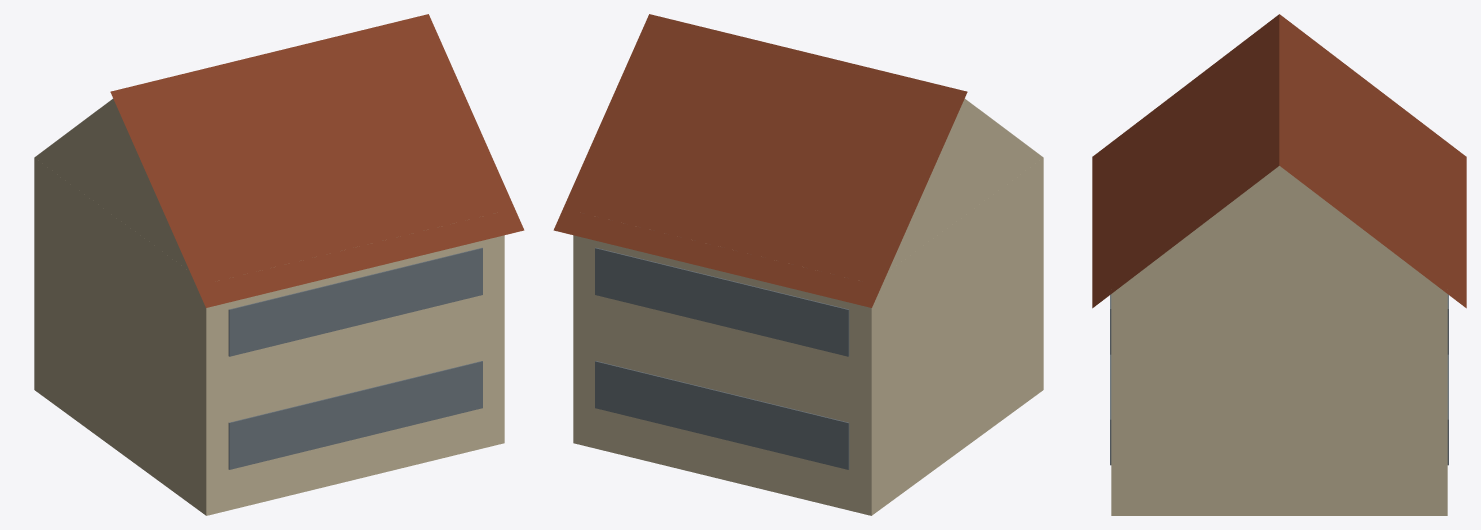
File: bakery.tone-v1.lod2.glb
3 views of the same model, side by side, from view 1: azimuth 30°, elevation 25°; view 2: azimuth 150°, elevation 25°; view 3: azimuth 270°, elevation 25° (orthographic). The views are drawn at different scales.
Visible parts, largest first — view 1: bakery; view 2: bakery; view 3: bakery.
Part boxes in pixels (x1,y1,x2,y2): bakery: [34, 14, 524, 515]; bakery: [553, 14, 1043, 515]; bakery: [1092, 14, 1466, 515].
Bounding box in the file's own units: 8.54 × 9.32 × 8.9.
